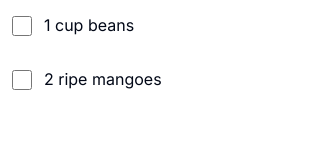
Test: ingredients stay readable while each checkbox toggles independently
Click the checkbox labelled "1 cup beans" at (22, 26), box [12,16,32,36]
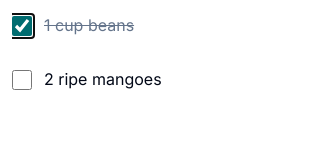
Expected: the checkbox labelled "2 ripe mangoes" is not checked, [12,70,32,90]
Expected: the checkbox labelled "1 cup beans" is checked
Click the checkbox labelled "1 cup beans" at (22, 26), box [12,16,32,36]
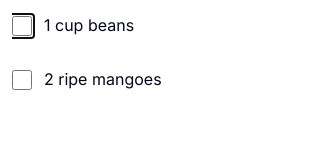
Expected: the checkbox labelled "1 cup beans" is not checked, [12,16,32,36]
